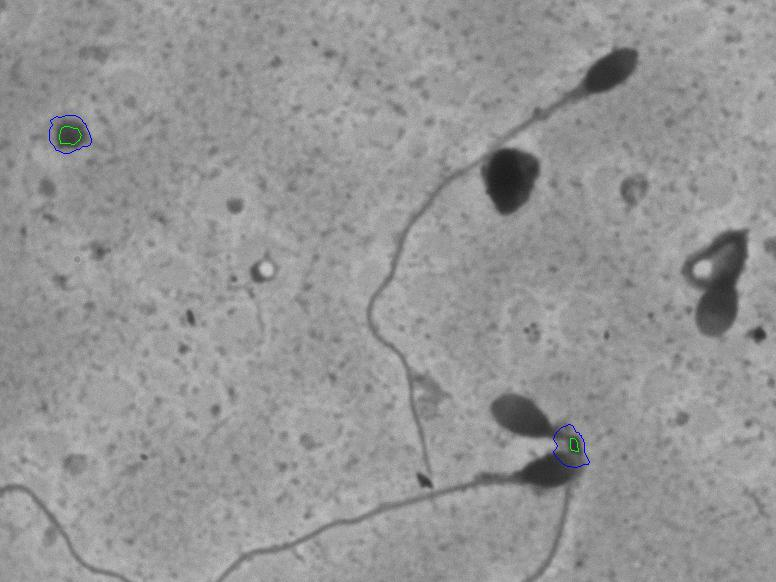Abnormal: (676, 210, 762, 351)
Normal: (331, 16, 666, 486)
